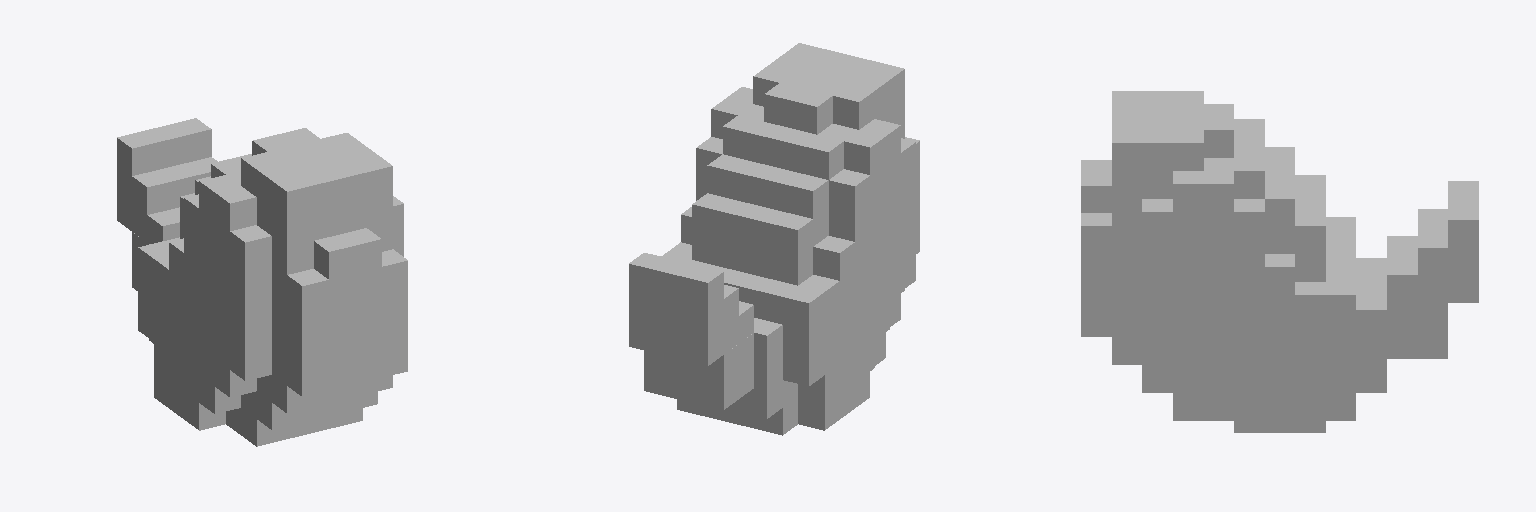
The model's file is torikarada.obj.
The picture shows the model from 3 angles: view 1: azimuth 30°, elevation 25°; view 2: azimuth 150°, elevation 25°; view 3: azimuth 270°, elevation 25°; orthographic projection.
Parts seen in each view (by area): view 1: 立方体.036; view 2: 立方体.036; view 3: 立方体.036.
Part boxes in pixels (bbox=[...]): 立方体.036: bbox=[117, 118, 407, 446]; 立方体.036: bbox=[629, 43, 919, 435]; 立方体.036: bbox=[1081, 91, 1478, 432].
Size of the model in its own units: 12 by 20 by 26.